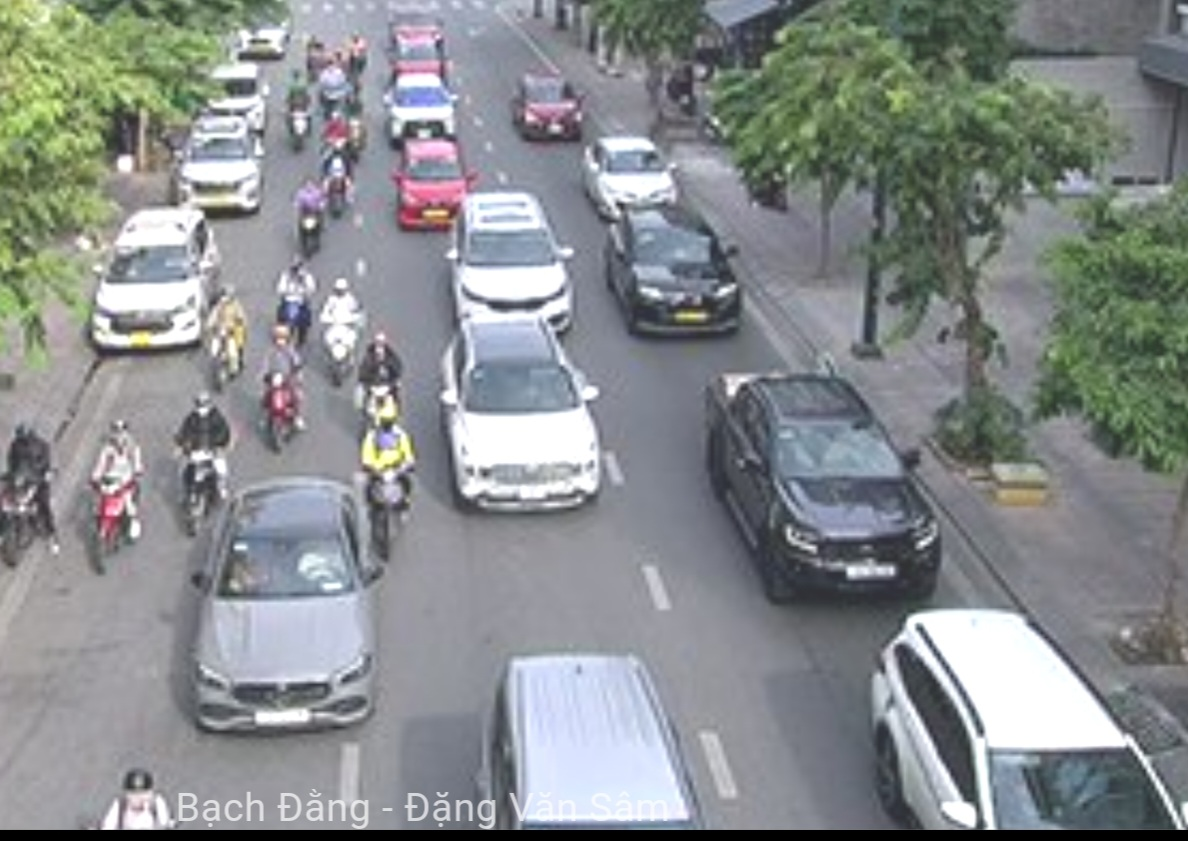car: (865, 609, 1160, 841), (704, 364, 944, 608), (181, 470, 383, 740), (490, 642, 701, 841), (434, 327, 610, 519), (88, 211, 223, 360), (601, 211, 742, 337), (450, 192, 571, 330), (170, 113, 264, 220), (577, 139, 677, 212), (398, 140, 472, 235), (509, 72, 588, 145), (387, 75, 461, 146), (197, 60, 269, 128), (384, 21, 450, 77)
